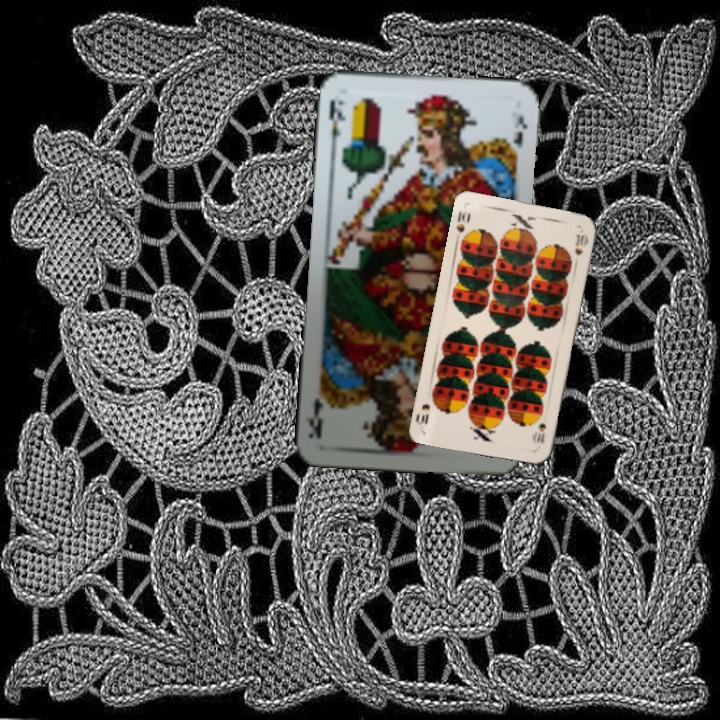EK: (324, 92, 347, 151)
S10: (452, 207, 473, 235), (533, 419, 548, 446)
